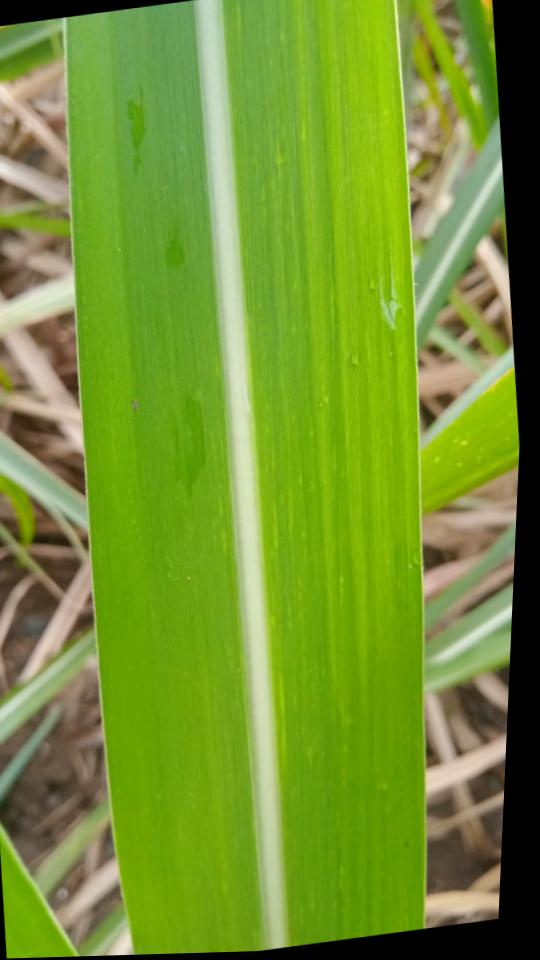Healthy: (65, 0, 424, 955)
